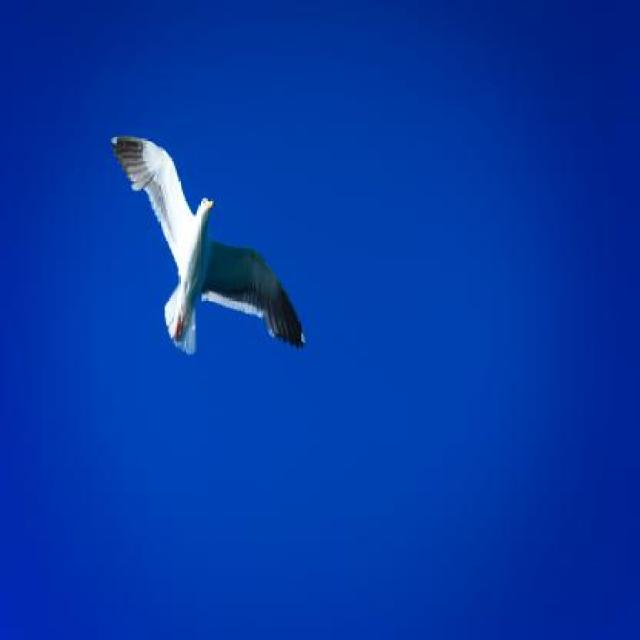bird: (110, 134, 307, 354)
